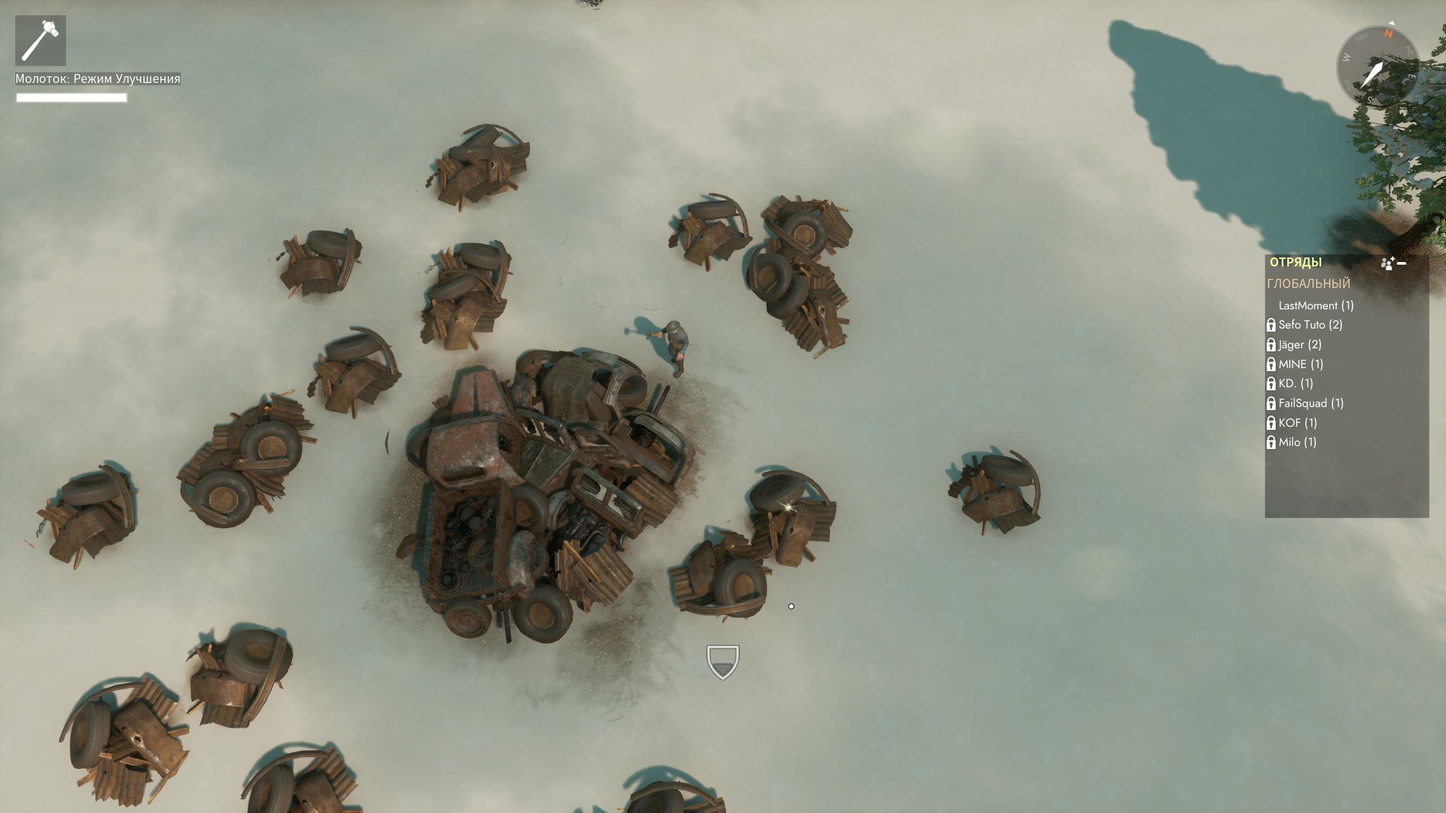player: (647, 320, 689, 377)
scrap_pile: (670, 470, 836, 617), (178, 394, 315, 528), (66, 677, 189, 806), (190, 629, 293, 728), (747, 252, 848, 352), (37, 464, 135, 566), (420, 242, 512, 350), (308, 326, 400, 416), (434, 124, 530, 210), (950, 451, 1040, 534), (669, 193, 750, 269), (763, 196, 852, 258), (281, 229, 362, 296)
terrain: (398, 351, 692, 642)
